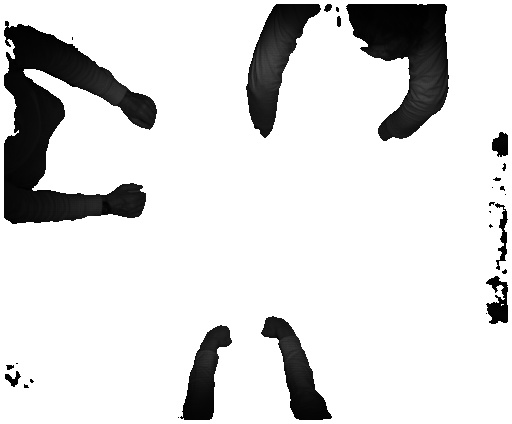fist: (110, 176, 151, 223), (124, 96, 159, 135), (256, 312, 291, 341), (207, 320, 231, 350)
